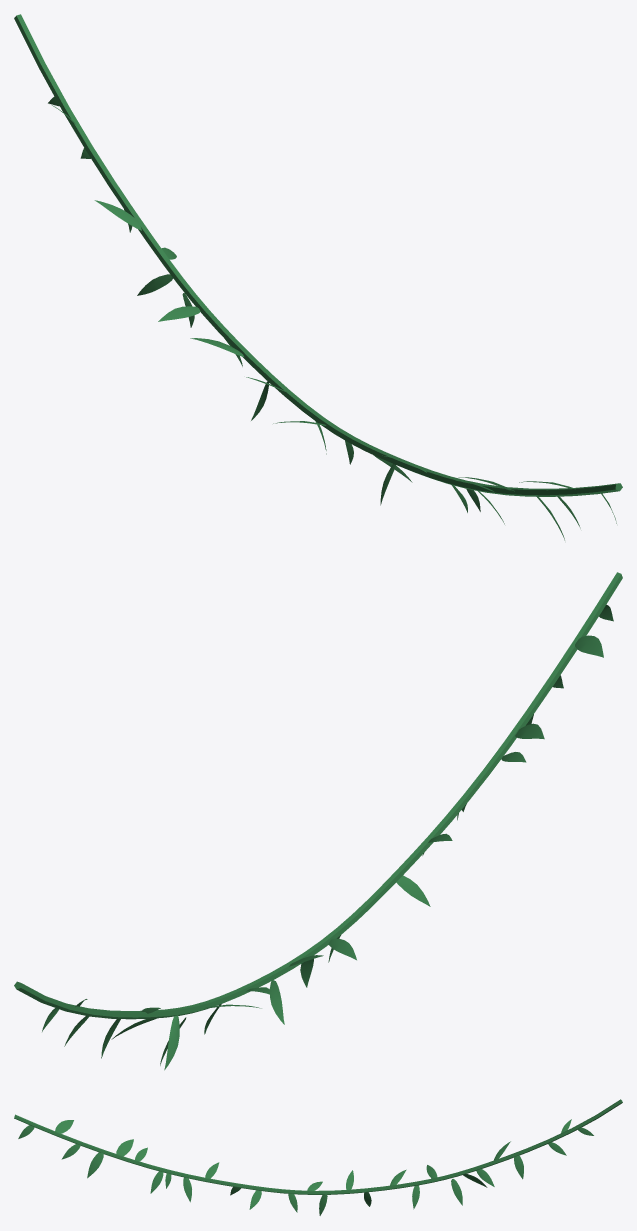
Rendered from vine_hori_B_scanden.fbx.
The picture shows the model from 3 angles, top to bottom: view 1: azimuth 30°, elevation 25°; view 2: azimuth 150°, elevation 25°; view 3: azimuth 270°, elevation 25°; orthographic projection. The views are drawn at different scales.
Parts seen in each view (by area): view 1: vine_hori_B_scanden_root; view 2: vine_hori_B_scanden_root; view 3: vine_hori_B_scanden_root, vine_scanden_A_leaf_A, vine_scanden_A_leaf_A268.
Part boxes in pixels (x1,y1,x2,y2): vine_hori_B_scanden_root: (14,14,622,496); vine_hori_B_scanden_root: (14,572,622,1019); vine_hori_B_scanden_root: (14,1099,622,1194); vine_scanden_A_leaf_A: (87,1152,103,1178); vine_scanden_A_leaf_A268: (116,1139,133,1156).
Bounding box in the file's own units: 37.83 × 95.52 × 460.
